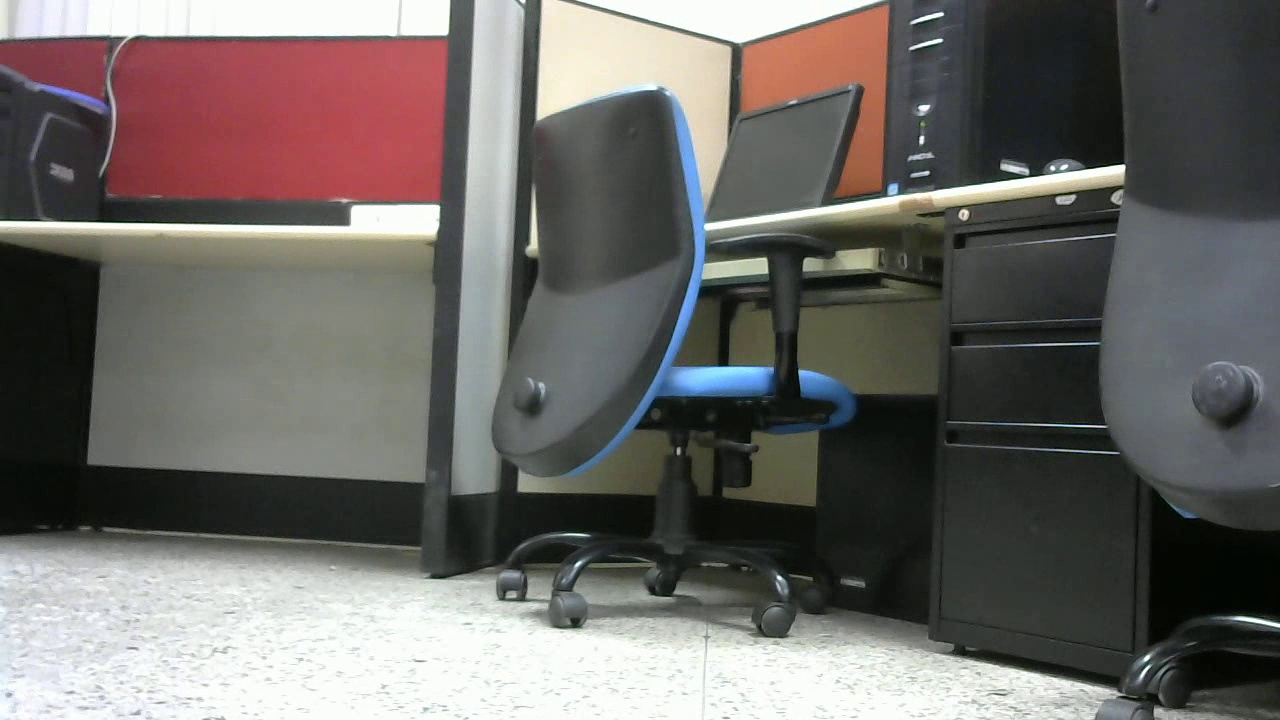chair: (482, 86, 861, 654)
